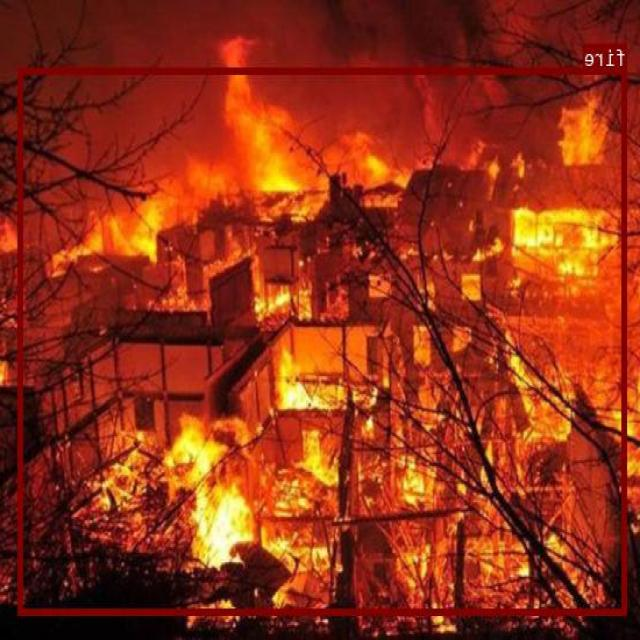fire: (20, 67, 628, 614)
